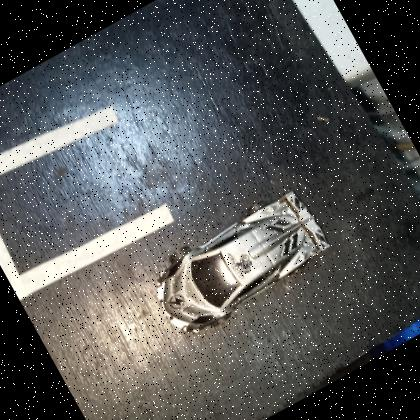Car: (140, 181, 340, 345)
